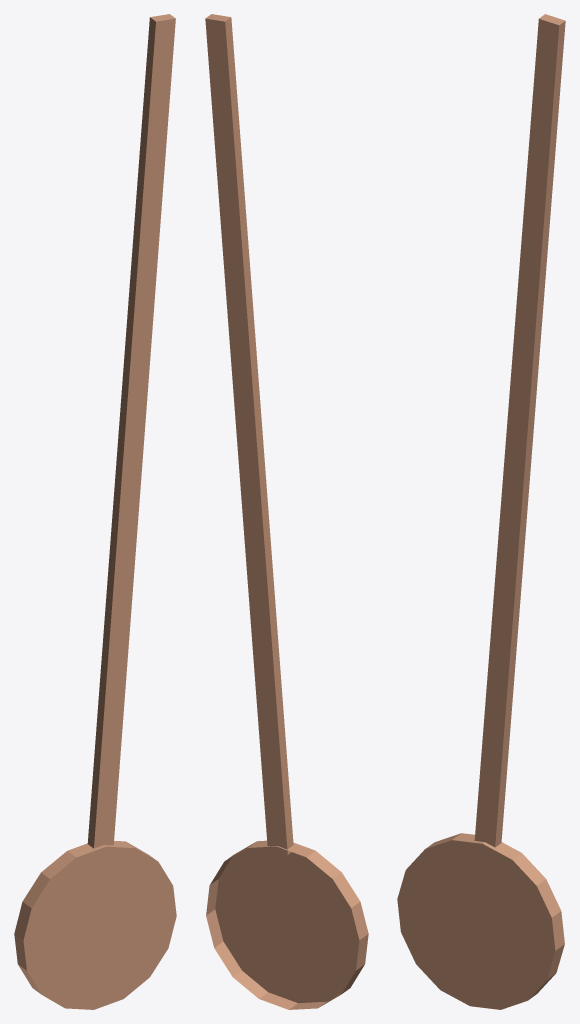
Rendered from GrandfatherClockPendulum.fbx.
The picture shows the model from 3 angles, left to right: view 1: azimuth 30°, elevation 25°; view 2: azimuth 150°, elevation 25°; view 3: azimuth 330°, elevation 25°; orthographic projection. The views are drawn at different scales.
Parts seen in each view (by area): view 1: Pendulum; view 2: Pendulum; view 3: Pendulum.
Part boxes in pixels (<box>): Pendulum: <box>14,14,176,1009</box>; Pendulum: <box>205,14,368,1009</box>; Pendulum: <box>397,14,565,1009</box>.
Size of the model in its own units: 49.97 by 300 by 5.16.
